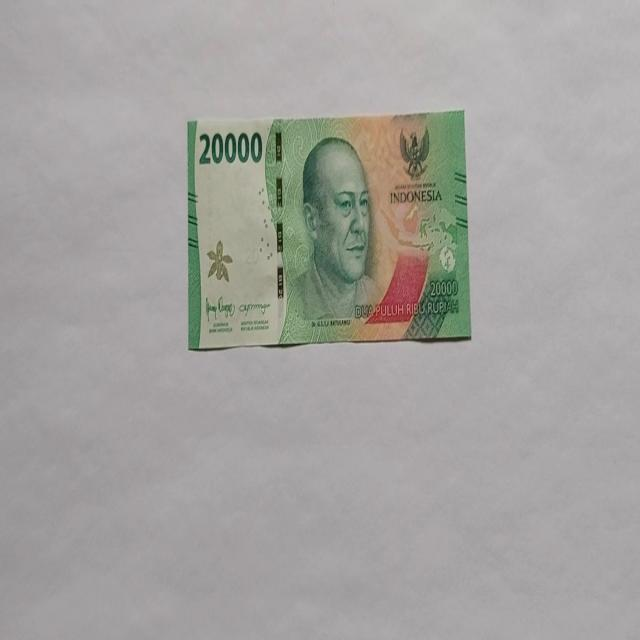dua puluh ribu rupiah: (186, 109, 472, 351), (282, 133, 384, 338)
